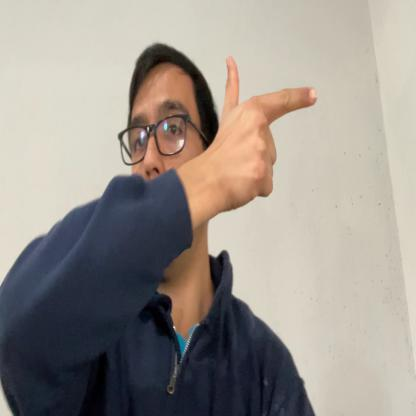G: (219, 55, 318, 215)
